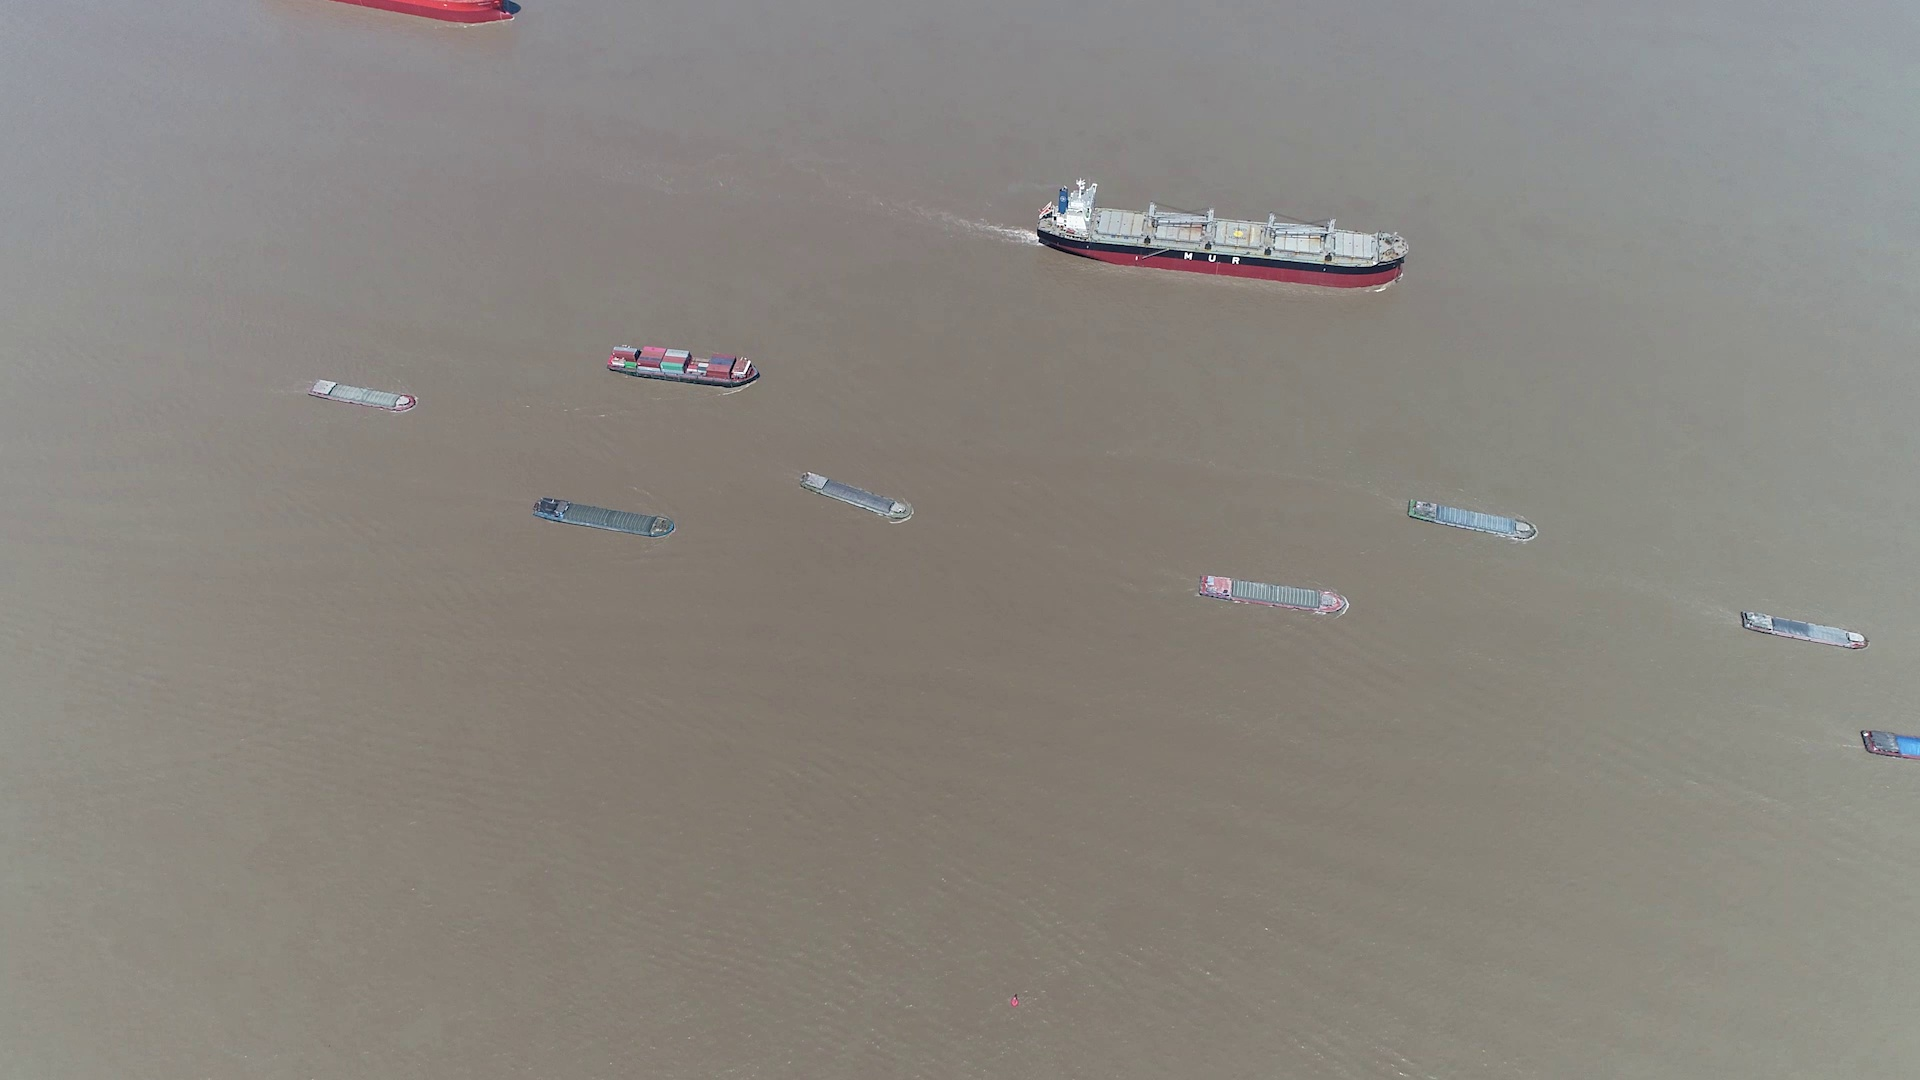ship: (1040, 185, 1408, 287), (609, 344, 761, 386), (1197, 574, 1350, 615), (1404, 497, 1538, 543), (800, 469, 914, 524), (534, 498, 676, 541), (1738, 609, 1869, 650), (309, 378, 418, 414), (1859, 731, 1919, 762)
